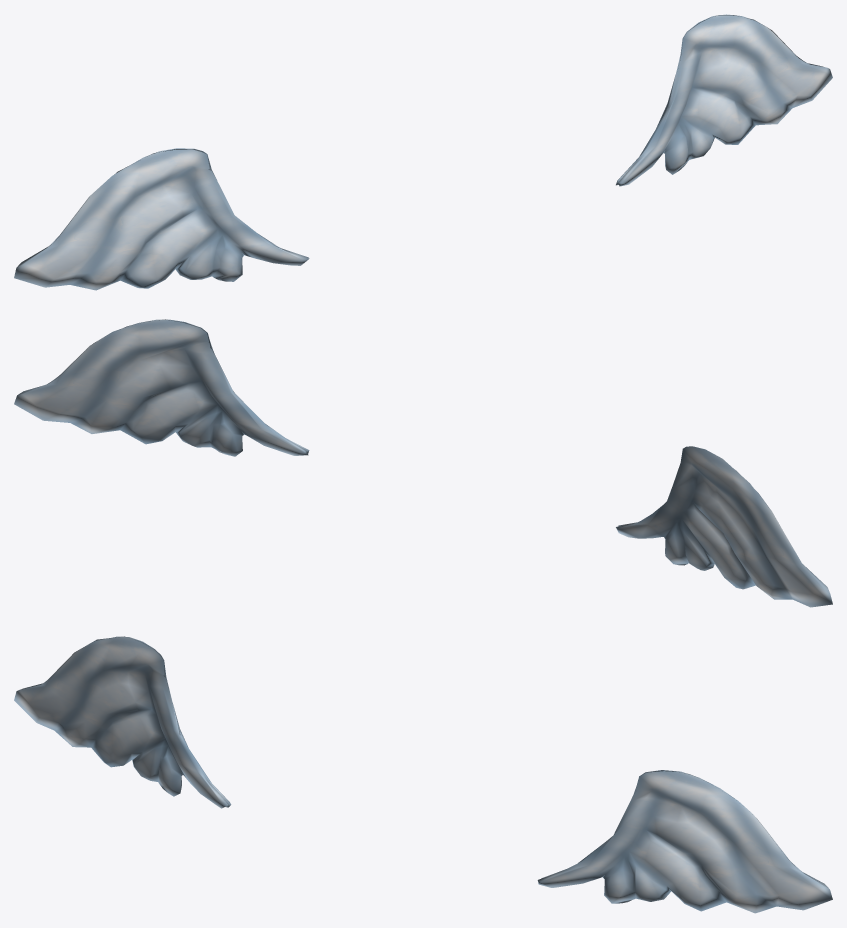
The model's file is AD_Angel_Head_Wings.fbx.
3 views of the same model, one above another, from view 1: azimuth 30°, elevation 25°; view 2: azimuth 150°, elevation 25°; view 3: azimuth 330°, elevation 25° (orthographic).
Parts seen in each view (by area): view 1: A_HeadWings; view 2: A_HeadWings; view 3: A_HeadWings.
Boxes of the visible parts, x1,y1,x2,y2 form: A_HeadWings: (14, 14, 832, 290); A_HeadWings: (14, 319, 832, 607); A_HeadWings: (14, 636, 832, 913).
Bounding box in the file's own units: 250 × 39.42 × 22.2.
